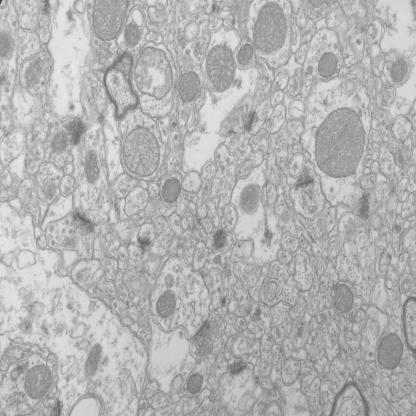mitochondria: (314, 106, 368, 178), (247, 0, 290, 55), (119, 124, 161, 178), (202, 41, 238, 96), (92, 0, 132, 42), (20, 361, 55, 399), (376, 330, 404, 374), (332, 280, 356, 318), (176, 68, 200, 106), (82, 340, 105, 378), (238, 184, 264, 217), (82, 147, 103, 185), (155, 288, 178, 320), (48, 128, 73, 156), (317, 50, 339, 81), (161, 177, 183, 207), (388, 56, 410, 86), (186, 369, 207, 399), (234, 43, 257, 68), (122, 20, 142, 48)
